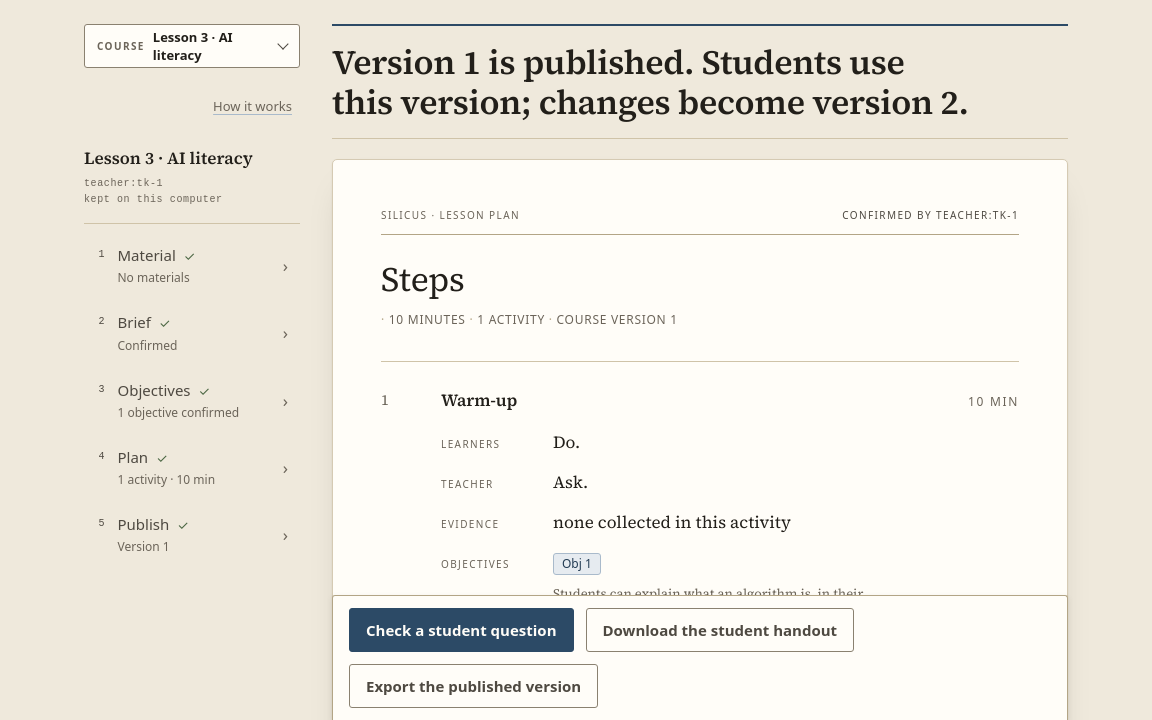
Scenario: LiveCourse — thin client of the host › says plainly when the course does not cover a student's question
Click the button "Check a student question": (461, 630) [349,608,574,652]
(page scrolled)
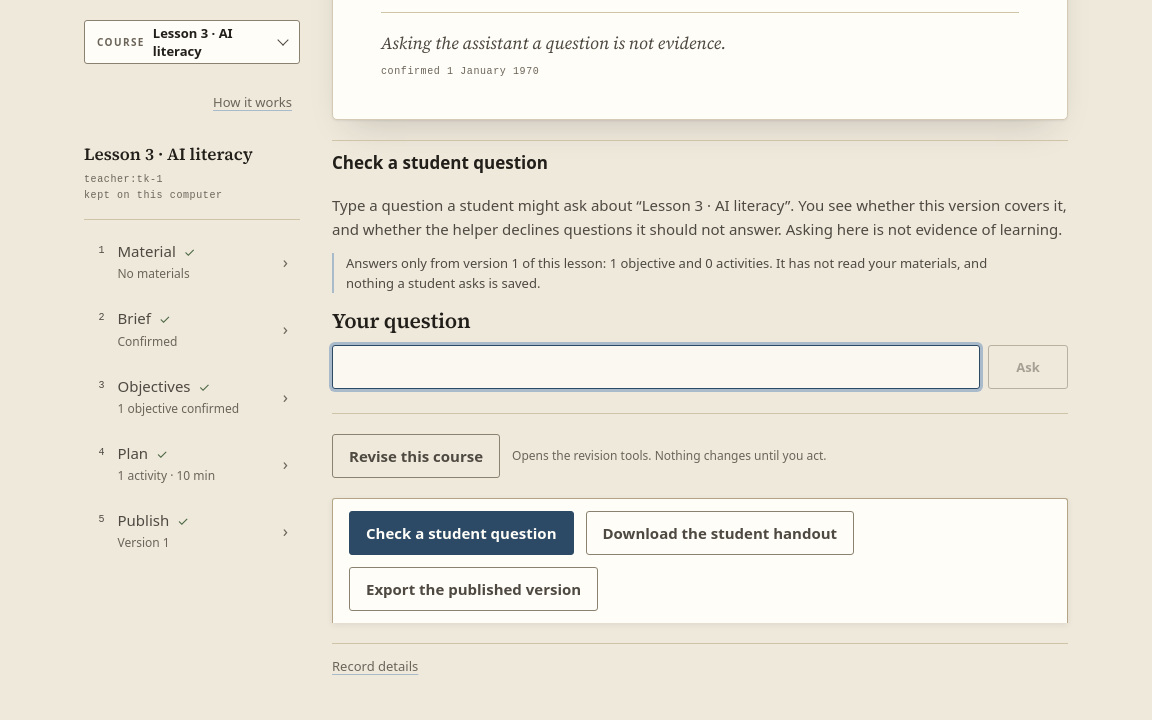
In the field labelled "Your question": (656, 367) [332,345,980,389], type "Who won in 1966?"
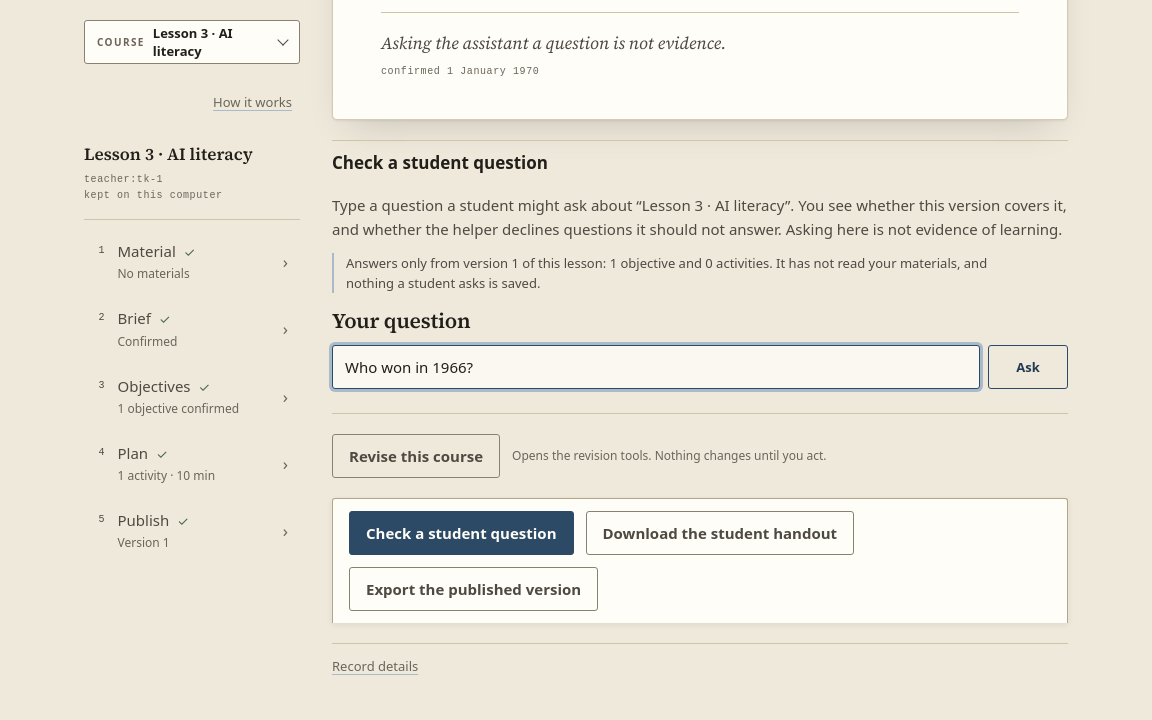
Click the button "Ask": (1028, 367) [988,345,1068,389]
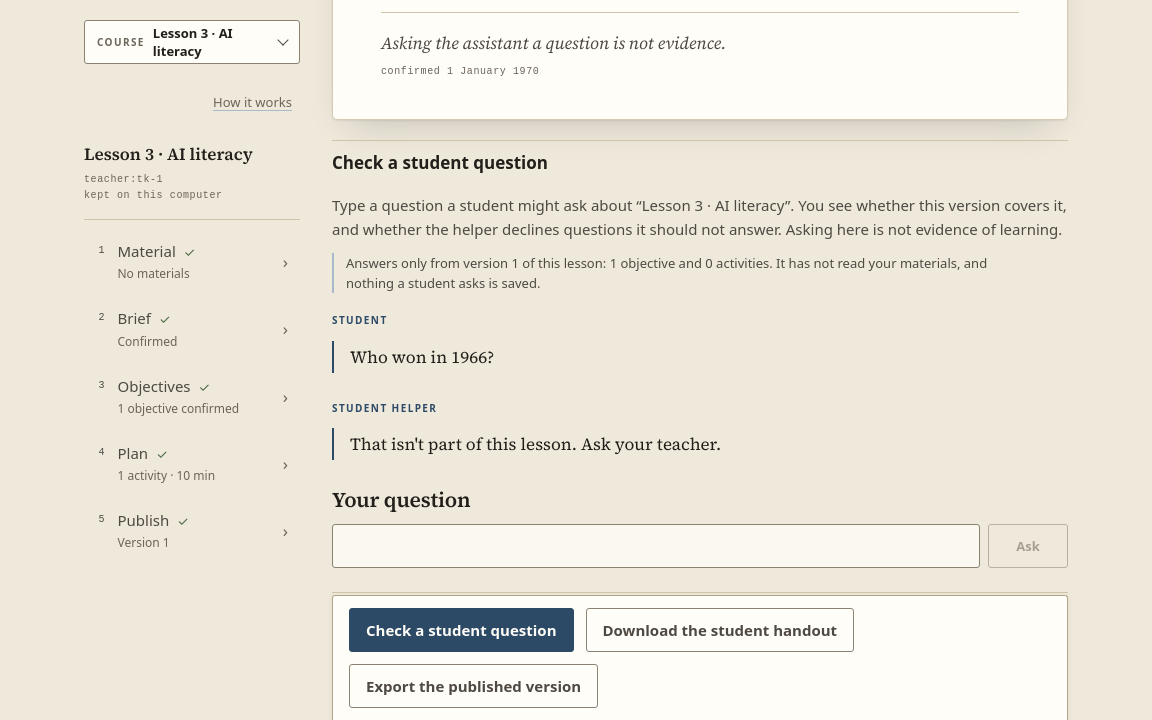
Expected: the text "That isn't part of this lesson. Ask your teacher." is shown, [332,428,1068,460]
